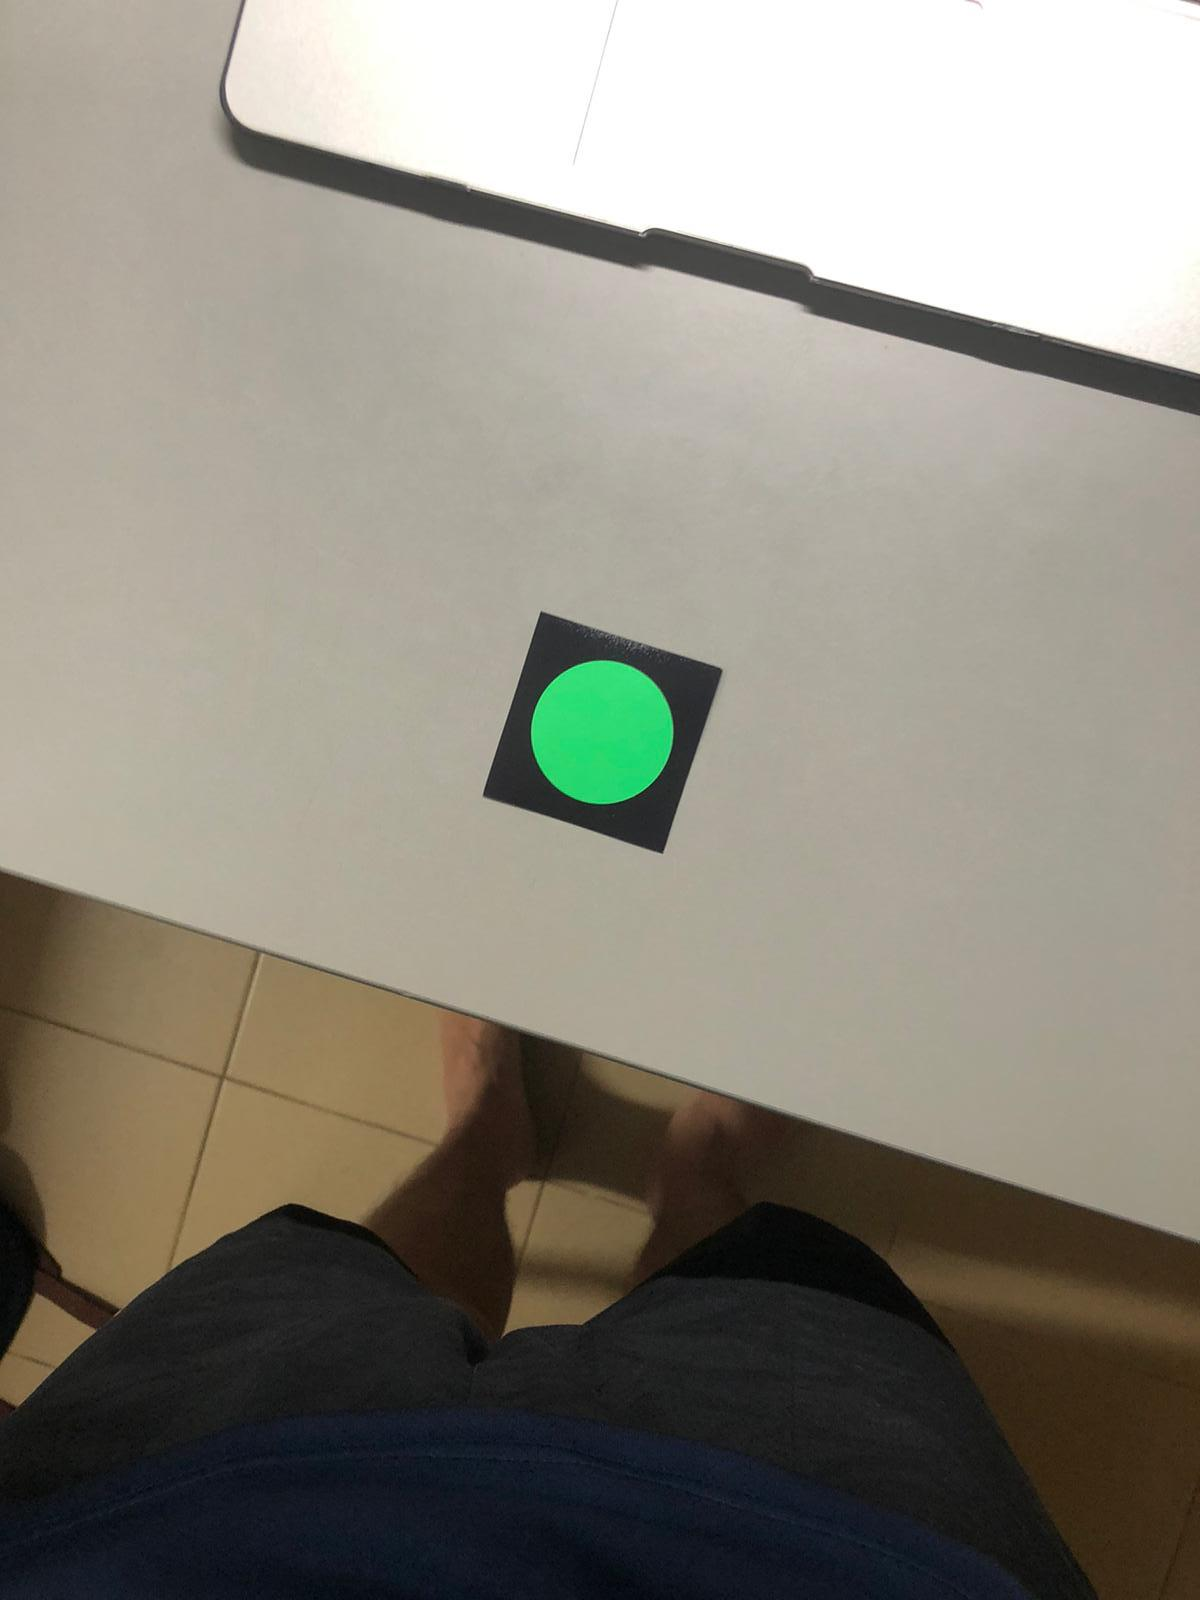Circle: (504, 616, 711, 860)
